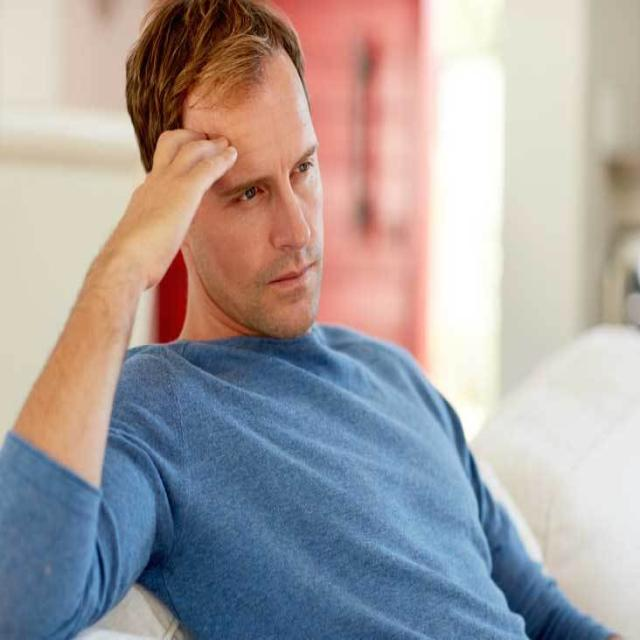human: (0, 3, 540, 640)
